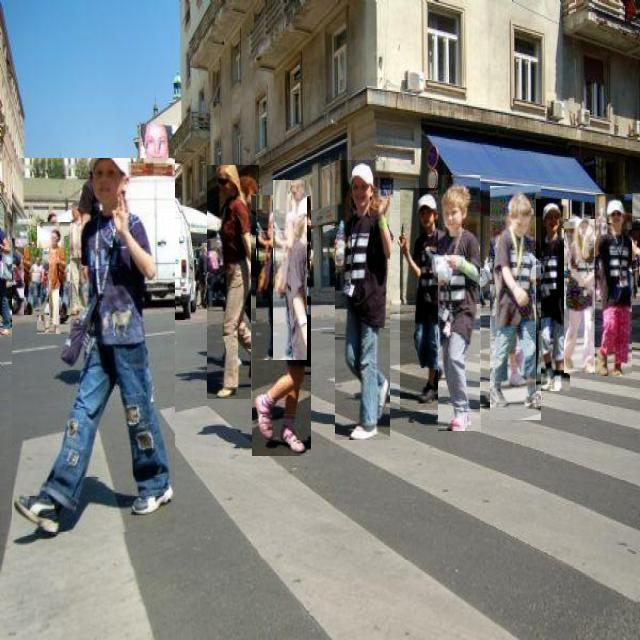without scooter: (12, 159, 175, 534), (335, 160, 390, 440), (252, 195, 311, 456), (208, 166, 260, 400), (490, 186, 541, 420), (400, 188, 451, 410), (439, 175, 482, 431), (595, 194, 632, 376), (536, 199, 570, 391), (273, 180, 307, 360), (565, 219, 596, 373), (38, 223, 72, 334), (24, 248, 49, 315)
